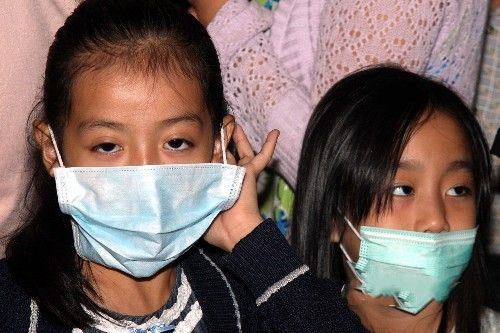face_mask: (56, 65, 212, 261), (355, 115, 483, 299)
